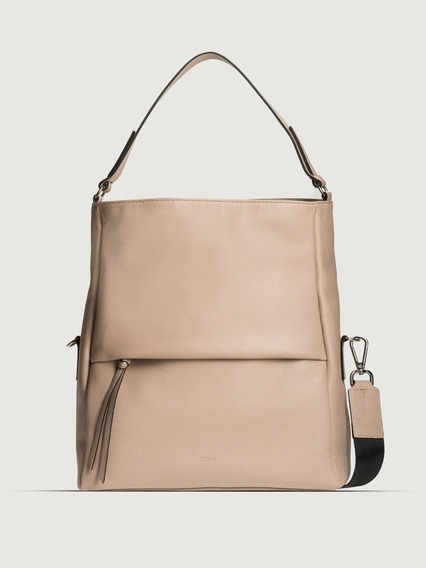cartera: (71, 50, 387, 494)
